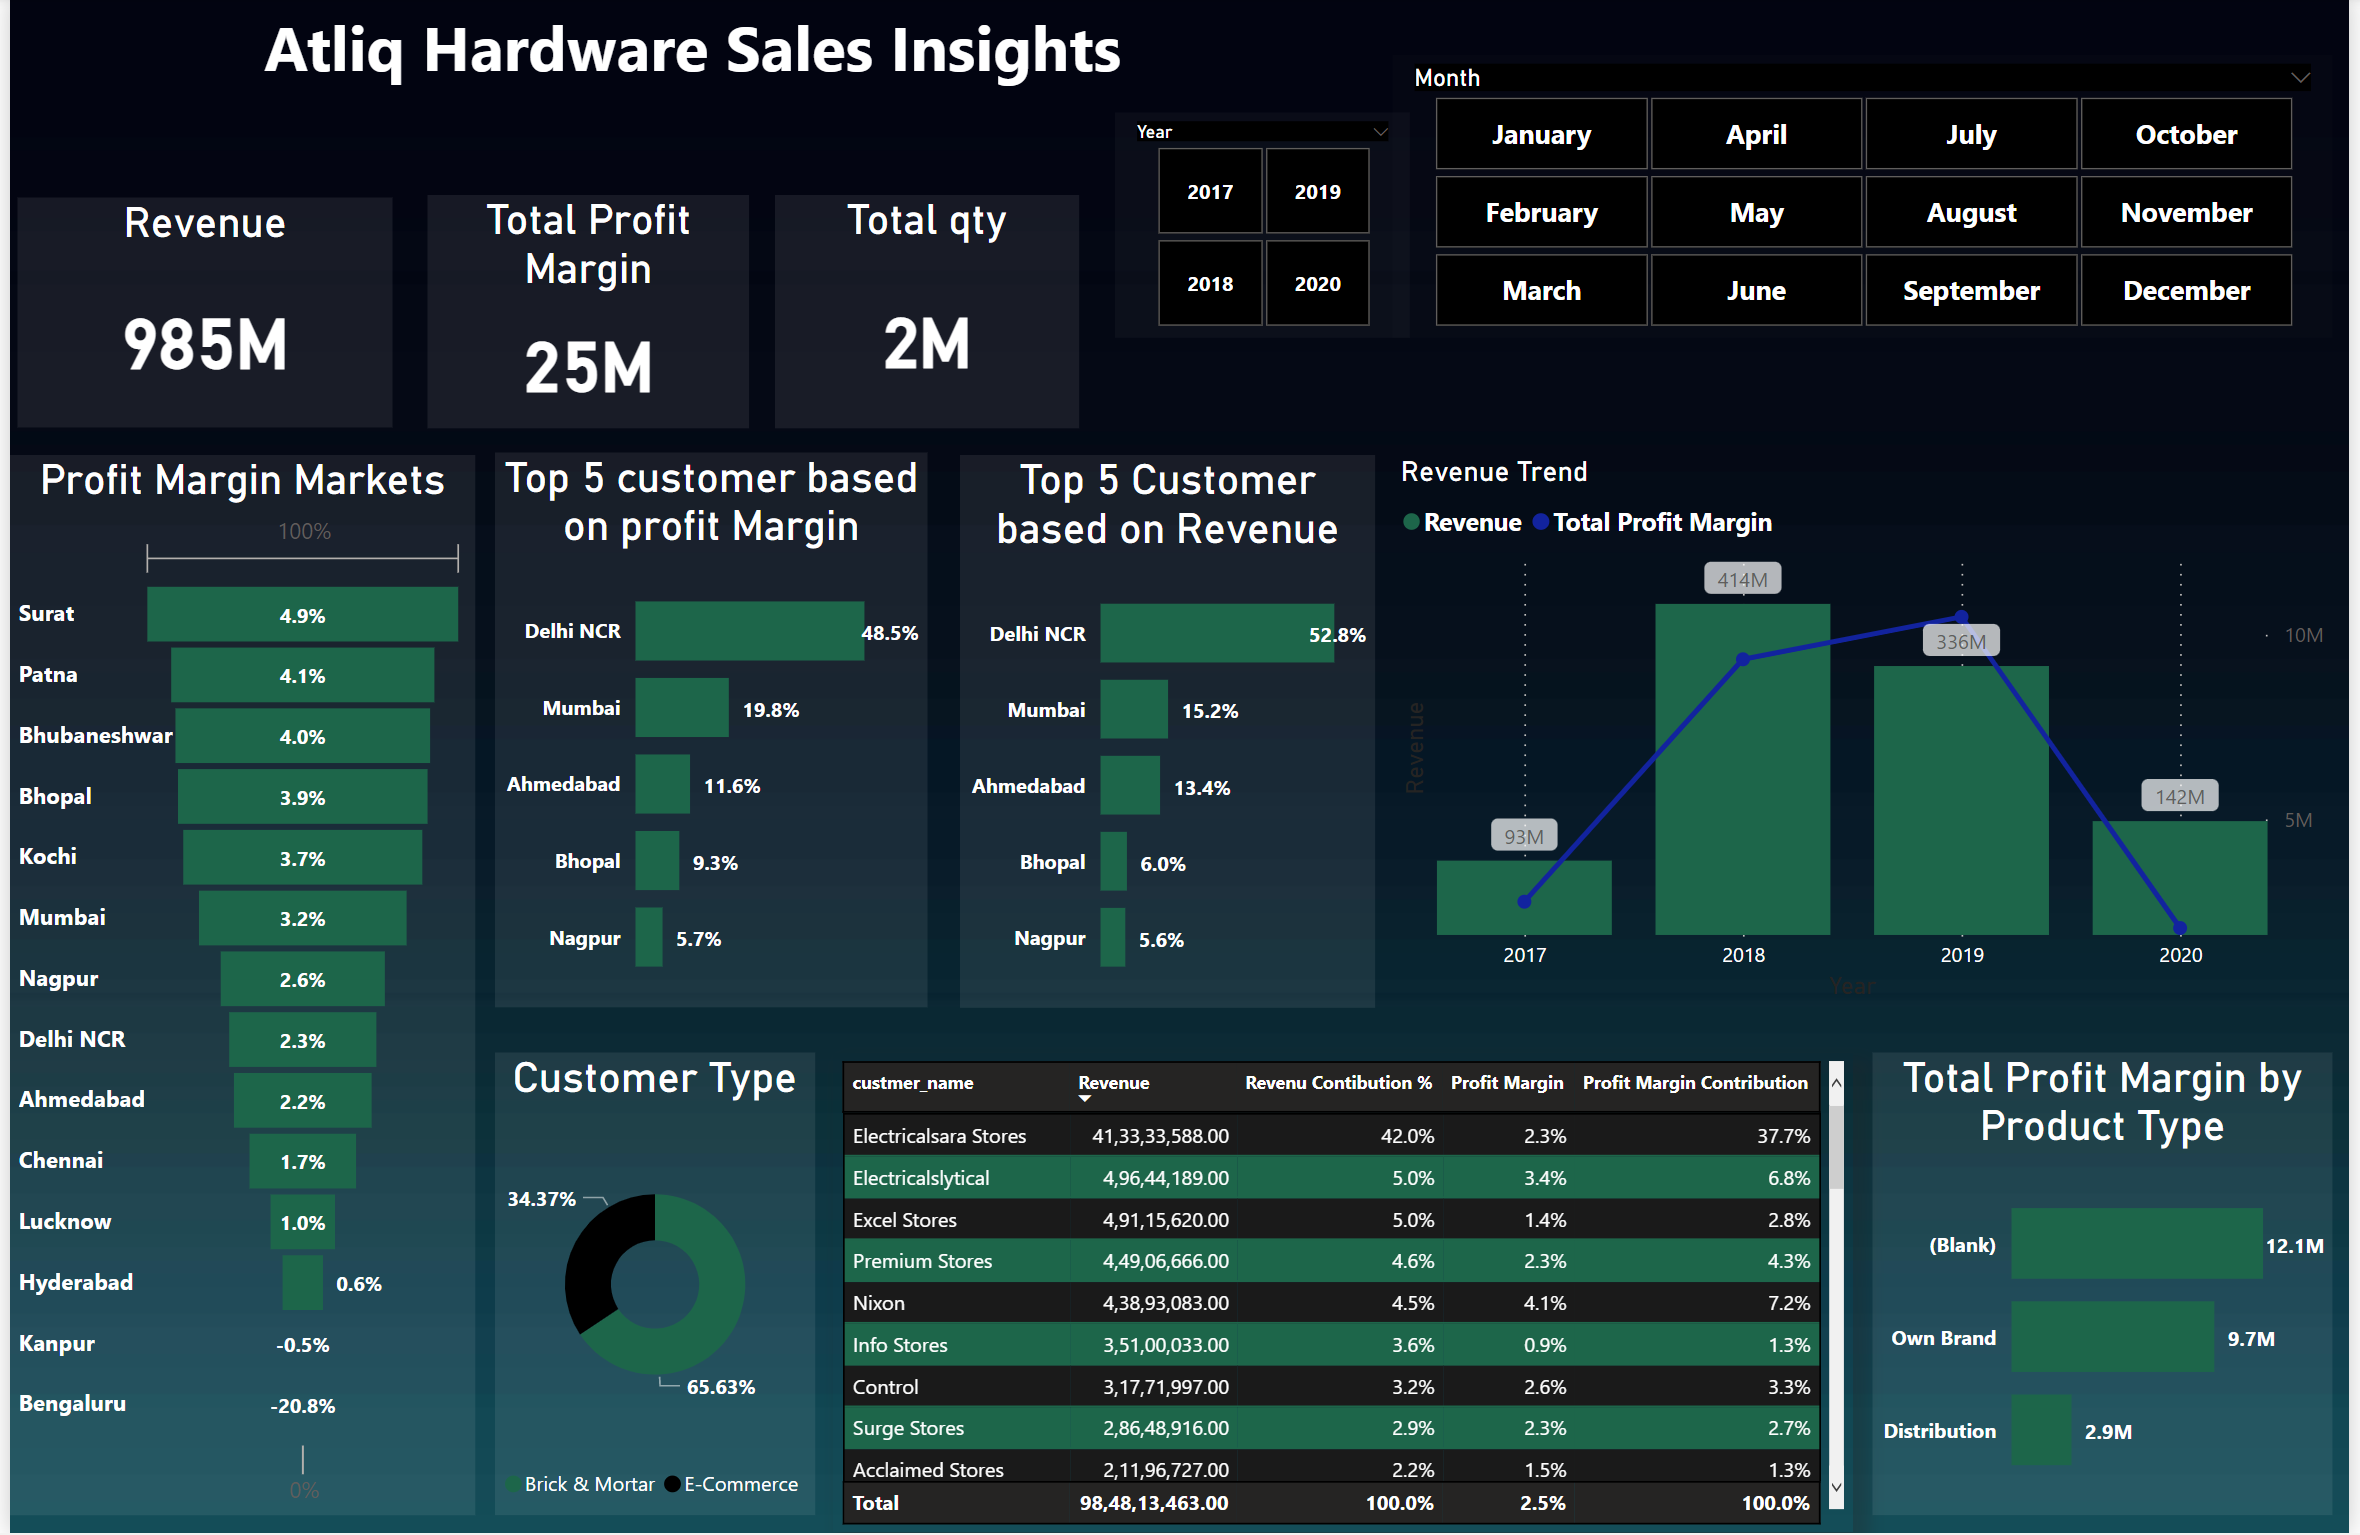

This screenshot's page, from the dashboard's own definition file:
{"tool":"powerbi","page":{"name":"Page 1","canvas":[1400,920],"ordinal":0},"visuals":[{"type":"card","title":"Revenue","fields":{"Values":["Base Measure.Revenue"]},"box":[4.5,121.2,224.4,137.6],"z":0},{"type":"card","title":"Total Profit Margin","fields":{"Values":["Base Measure.Total Profit Margin"]},"box":[250.1,119.7,192.5,139.4],"z":1000},{"type":"card","title":"Total qty","fields":{"Values":["Base Measure.Total Quantity"]},"box":[457.7,119.7,181.9,139.4],"z":2000},{"type":"funnel","title":"Profit Margin Markets","fields":{"Category":["sales markets.markets_name","sales markets.zone"],"Y":["Base Measure.Profit Margin"]},"box":[4.5,273.8,278.2,634.3],"z":3000},{"type":"barChart","title":"Top 5 customer based on profit Margin","fields":{"Category":["sales markets.markets_name","sales markets.zone"],"Y":["Base Measure.Profit Margin Contribution"]},"box":[290.2,273.8,258.8,332.1],"z":4000},{"type":"barChart","title":"Top 5 Customer based on Revenue","fields":{"Category":["sales markets.markets_name","sales markets.zone"],"Y":["Base Measure.Revenu Contibution %"]},"box":[568.5,275.3,248.3,330.6],"z":5000},{"type":"donutChart","title":"Customer Type","fields":{"Category":["sales customers.customer_type"],"Y":["Base Measure.Profit Margin Contribution"]},"box":[290.2,632.8,191.5,276.7],"z":6000},{"type":"tableEx","fields":{"Values":["sales customers.custmer_name","Base Measure.Revenue","Base Measure.Revenu Contibution %","Base Measure.Profit Margin","Base Measure.Profit Margin Contribution"]},"box":[492.2,632.8,610.3,287.2],"z":7000},{"type":"lineClusteredColumnComboChart","title":"Revenue Trend","fields":{"Category":["sales date.date.Variation.Date Hierarchy.Year","sales date.date.Variation.Date Hierarchy.Quarter","sales date.date.Variation.Date Hierarchy.Month","sales date.date.Variation.Date Hierarchy.Day"],"Y":["Base Measure.Revenue"],"Y2":["Base Measure.Total Profit Margin"]},"box":[827.3,275.3,562.5,330.6],"z":8000},{"type":"slicer","fields":{"Values":["sales date.date.Variation.Date Hierarchy.Year"]},"box":[661.2,70.3,176.5,134.6],"z":9000},{"type":"slicer","fields":{"Values":["sales date.date.Variation.Date Hierarchy.Month"]},"box":[827.3,35.9,572.9,191.5],"z":10000},{"type":"barChart","title":"Total Profit Margin by Product Type","fields":{"Category":["sales products.product_type"],"Y":["Base Measure.Total Profit Margin"]},"box":[1114.5,632.8,275.3,276.7],"z":11000},{"type":"textbox","box":[0,0,816.9,69.7],"z":13000}]}

Visuals, with their boxes in screenshot pixels (x1, y1, x2, y2), scaled from the page's 1400x920 canvas onto the 2360x1535 screenshot:
"Revenue" card: [8,202,386,432]
"Total Profit Margin" card: [422,200,746,432]
"Total qty" card: [772,200,1078,432]
"Profit Margin Markets" funnel: [8,457,477,1515]
"Top 5 customer based on profit Margin" barChart: [489,457,925,1011]
"Top 5 Customer based on Revenue" barChart: [958,459,1377,1011]
"Customer Type" donutChart: [489,1056,812,1517]
tableEx - sales customers.custmer_name x Base Measure.Revenue: [830,1056,1858,1534]
"Revenue Trend" lineClusteredColumnComboChart: [1395,459,2343,1011]
slicer - sales date.date.Variation.Date Hierarchy.Year: [1115,117,1412,342]
slicer - sales date.date.Variation.Date Hierarchy.Month: [1395,60,2359,379]
"Total Profit Margin by Product Type" barChart: [1879,1056,2343,1517]
textbox: [0,0,1377,116]
